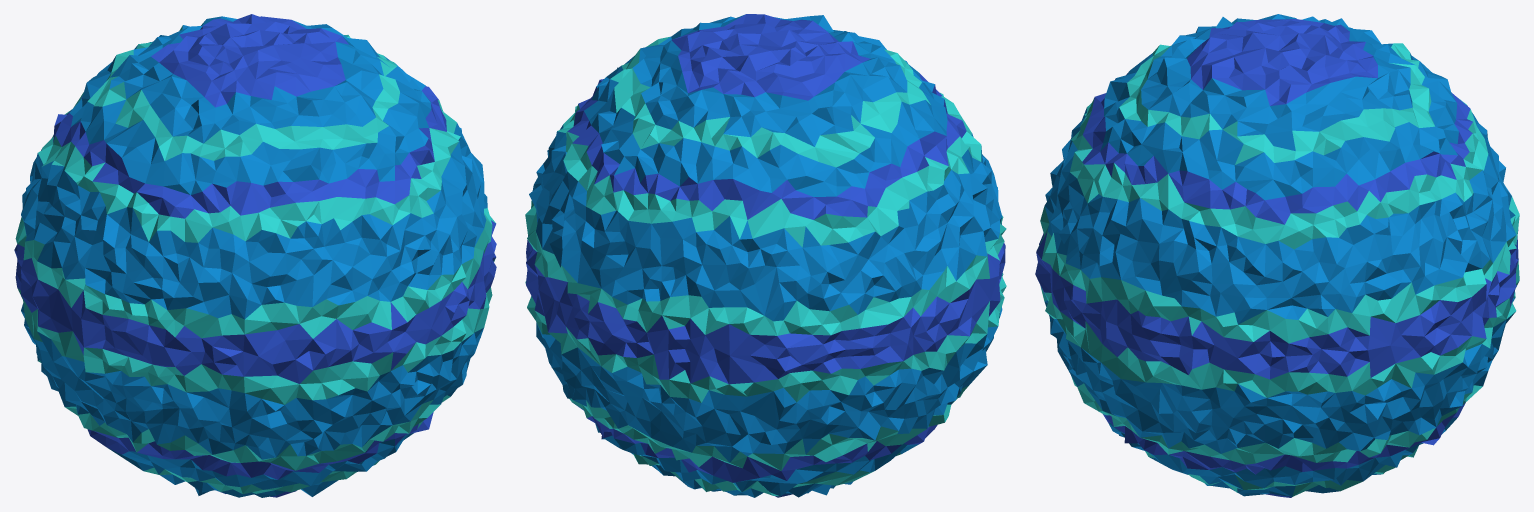
Rendered from neptune0.fbx.
3 views of the same model, side by side, from view 1: azimuth 30°, elevation 25°; view 2: azimuth 150°, elevation 25°; view 3: azimuth 270°, elevation 25° (orthographic).
Parts seen in each view (by area): view 1: Neptune V2; view 2: Neptune V2; view 3: Neptune V2.
Boxes of the visible parts, x1,y1,x2,y2 form: Neptune V2: [14, 14, 496, 497]; Neptune V2: [525, 14, 1006, 497]; Neptune V2: [1035, 14, 1519, 497].
Bounding box in the file's own units: 207 × 207 × 207.
